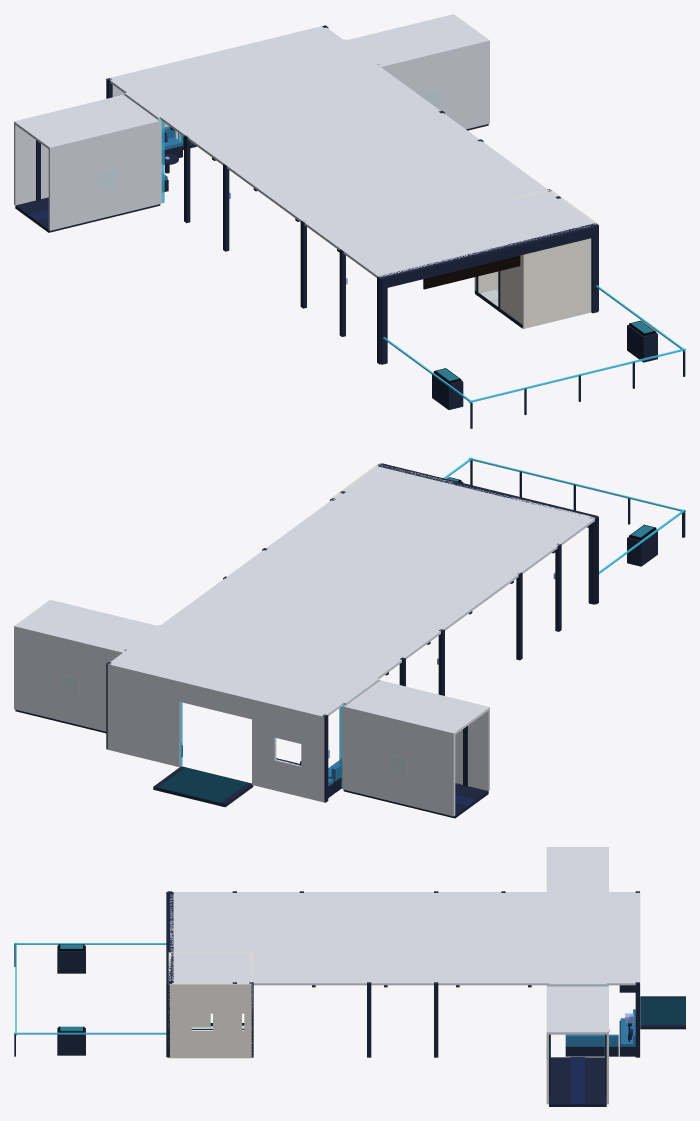
File: skyfleet_bake2_07.glb
3 renders of one model, top to bottom at view 1: azimuth 30°, elevation 25°; view 2: azimuth 150°, elevation 25°; view 3: azimuth 270°, elevation 25°, orthographic. The views are drawn at different scales.
Parts seen in each view (by area): view 1: baked; view 2: baked; view 3: baked.
Boxes of the visible parts, <box> form: baked: <box>14,14,685,428</box>; baked: <box>14,457,685,818</box>; baked: <box>14,847,685,1106</box>.
Size of the model in its own units: 18.28 by 3.52 by 28.01.
